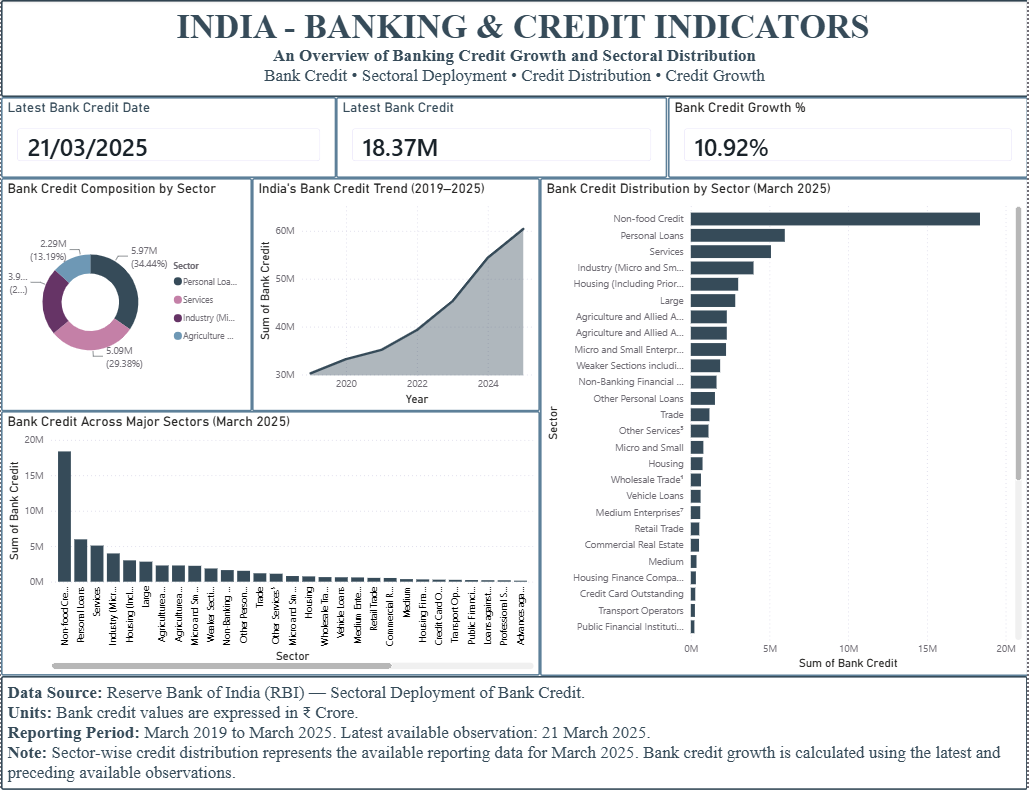

What the dashboard file says about the page in this screenshot:
{"tool":"powerbi","page":{"name":"Banking & Credit Indicators","canvas":[1280,985],"ordinal":4},"visuals":[{"type":"cardVisual","title":"Latest Bank Credit","fields":{"Data":["Fact_Bank_Credit_Clean.Latest Bank Credit"]},"box":[418.1,120.8,413.4,100.6],"z":0},{"type":"cardVisual","title":"Latest Bank Credit Date","fields":{"Data":["Fact_Bank_Credit_Clean.Latest Bank Credit Date"]},"box":[0,120.8,418.1,100.6],"z":1000},{"type":"lineChart","title":"India''s Bank Credit Trend (2019–2025)","fields":{"Category":["Fact_Bank_Credit_Clean.Reporting Date.Variation.Date Hierarchy.Year","Fact_Bank_Credit_Clean.Reporting Date.Variation.Date Hierarchy.Quarter","Fact_Bank_Credit_Clean.Reporting Date.Variation.Date Hierarchy.Month","Fact_Bank_Credit_Clean.Reporting Date.Variation.Date Hierarchy.Day"],"Y":["Sum(Fact_Bank_Credit_Clean.Bank Credit)"]},"box":[312.8,221.4,359.2,291.1],"z":2000},{"type":"clusteredBarChart","title":"Bank Credit Distribution by Sector (March 2025)","fields":{"Category":["Fact_Bank_Credit_Clean.Sector"],"Y":["Sum(Fact_Bank_Credit_Clean.Bank Credit)"]},"box":[672,221.4,608.5,620.9],"z":3000},{"type":"cardVisual","title":"Bank Credit Growth %","fields":{"Data":["Fact_Bank_Credit_Clean.Bank Credit Growth %"]},"box":[831.5,120.8,449,100.6],"z":4000},{"type":"clusteredColumnChart","title":"Bank Credit Across Major Sectors (March 2025)","fields":{"Category":["Fact_Bank_Credit_Clean.Sector"],"Y":["Sum(Fact_Bank_Credit_Clean.Bank Credit)"]},"box":[0,512.5,672,329.8],"z":5000},{"type":"donutChart","title":"Bank Credit Composition by Sector","fields":{"Category":["Fact_Bank_Credit_Clean.Sector"],"Y":["Sum(Fact_Bank_Credit_Clean.Bank Credit)"]},"box":[0,221.4,312.8,291.1],"z":6000},{"type":"textbox","box":[0,842.8,1280.4,142.1],"z":7000},{"type":"textbox","box":[0,0,1280.5,120.8],"z":8000}]}

Visuals, with their boxes in screenshot pixels (x1, y1, x2, y2), scaled from the page's 1280x985 canvas onto the 1029x790 screenshot:
"Latest Bank Credit" cardVisual: [336,97,668,178]
"Latest Bank Credit Date" cardVisual: [0,97,336,178]
"India''s Bank Credit Trend (2019–2025)" lineChart: [251,178,540,411]
"Bank Credit Distribution by Sector (March 2025)" clusteredBarChart: [540,178,1028,676]
"Bank Credit Growth %" cardVisual: [668,97,1028,178]
"Bank Credit Across Major Sectors (March 2025)" clusteredColumnChart: [0,411,540,676]
"Bank Credit Composition by Sector" donutChart: [0,178,251,411]
textbox: [0,676,1028,789]
textbox: [0,0,1028,97]
